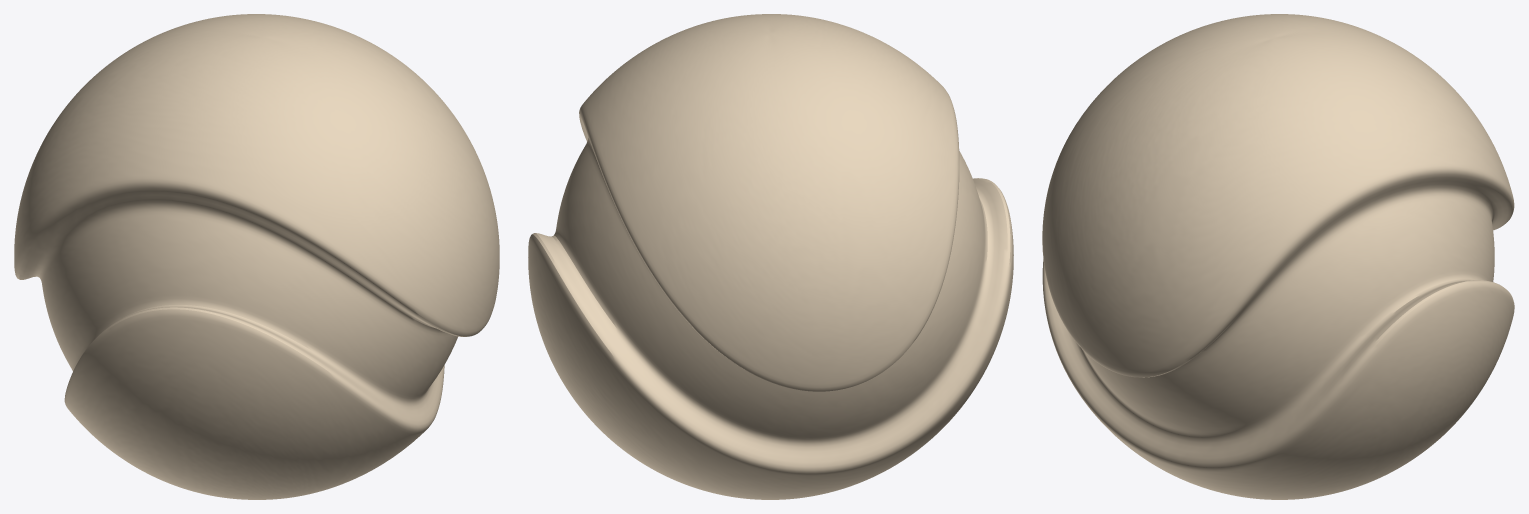
3 views of the same model, side by side, from view 1: azimuth 30°, elevation 25°; view 2: azimuth 150°, elevation 25°; view 3: azimuth 270°, elevation 25° (orthographic).
Visible parts, largest first — view 1: Shape_09; view 2: Shape_09; view 3: Shape_09.
Boxes of the visible parts, x1,y1,x2,y2 form: Shape_09: [14, 14, 499, 499]; Shape_09: [528, 14, 1013, 499]; Shape_09: [1042, 14, 1514, 499].
Bounding box in the file's own units: 90429 × 94549 × 91710.
